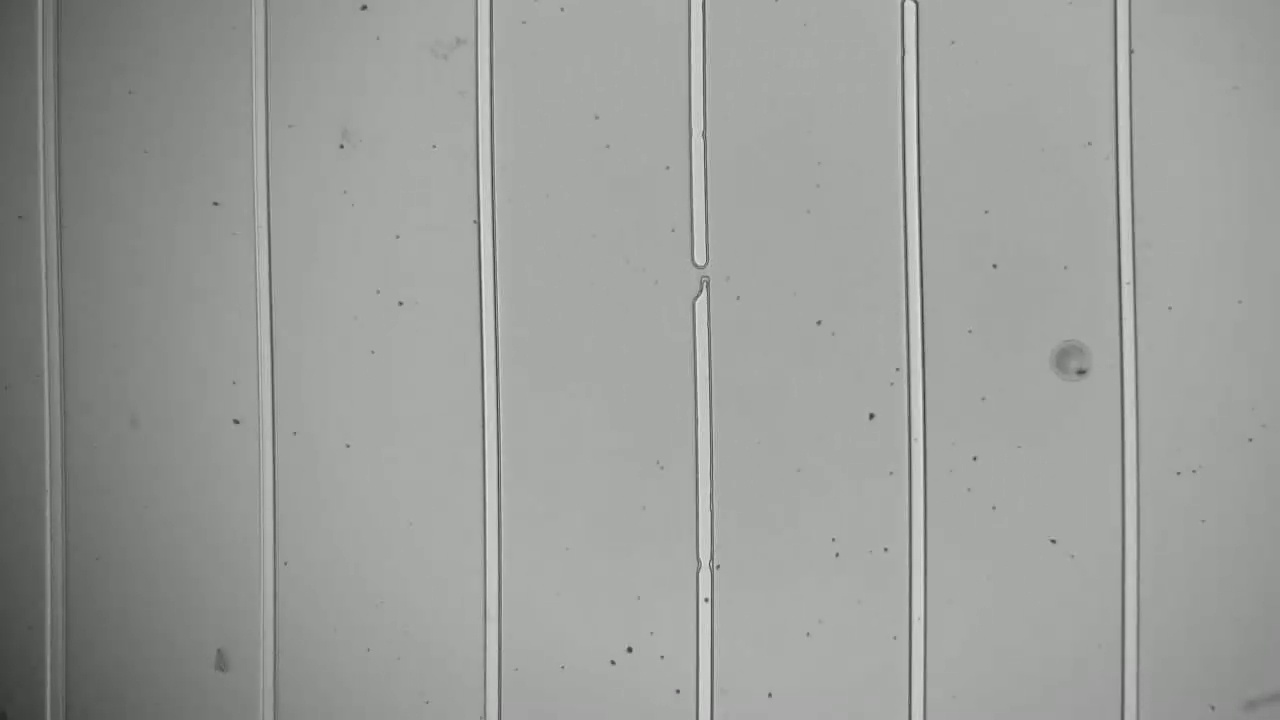edge_bite: (689, 549, 719, 584)
open: (682, 252, 716, 311)
